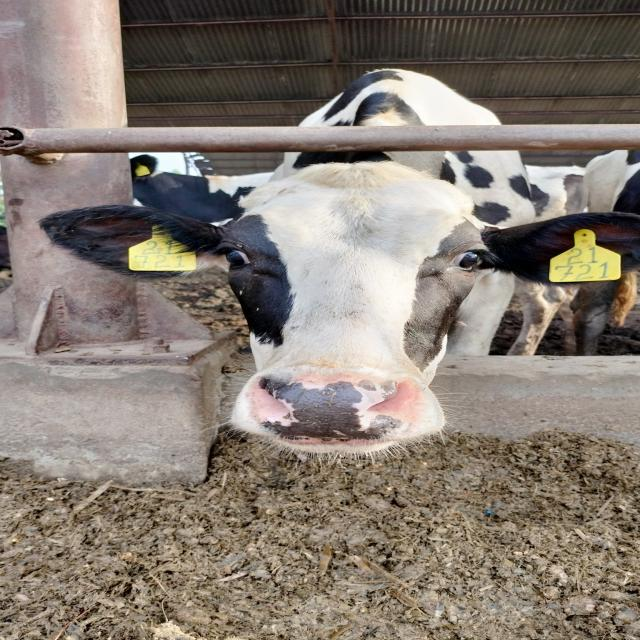muzzles: (234, 369, 432, 449)
